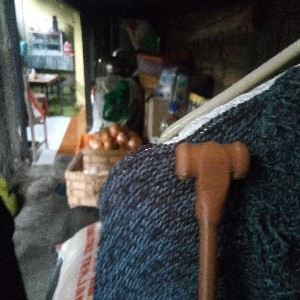palu: (173, 141, 251, 300)
